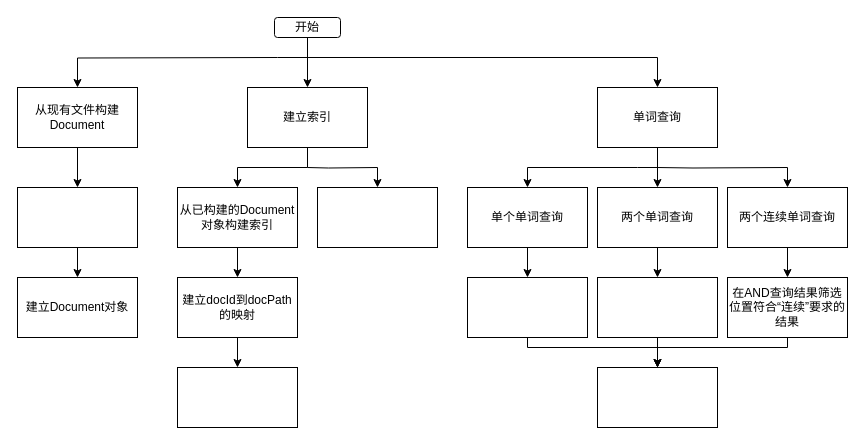
Image size: 865x445. Some labels were removed from this diagram. Here are the shapes that lost their labels. From the top down, the centre of each, then its label:
point (77, 217): 使用TupleScanneer 及三种过滤器对文档中的三元组进行构建、过滤与存储
point (377, 217): 从二进制文件中反序列化构建索引
point (527, 307): 从索引中直接查找queryTerm对应的PostingList并创建Hit数组
point (657, 307): AND和OR查询： 两个单词单独查询结果的交集或并集
point (237, 397): 通过遍历Document中的三元组建立Term到PostingList的映射
point (657, 397): 为命中结果计算分数并按照降序方式排序
